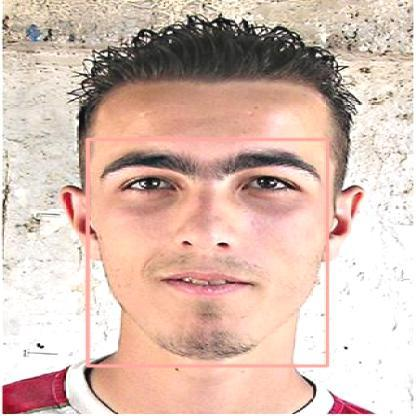without_mask: (87, 139, 326, 365)
